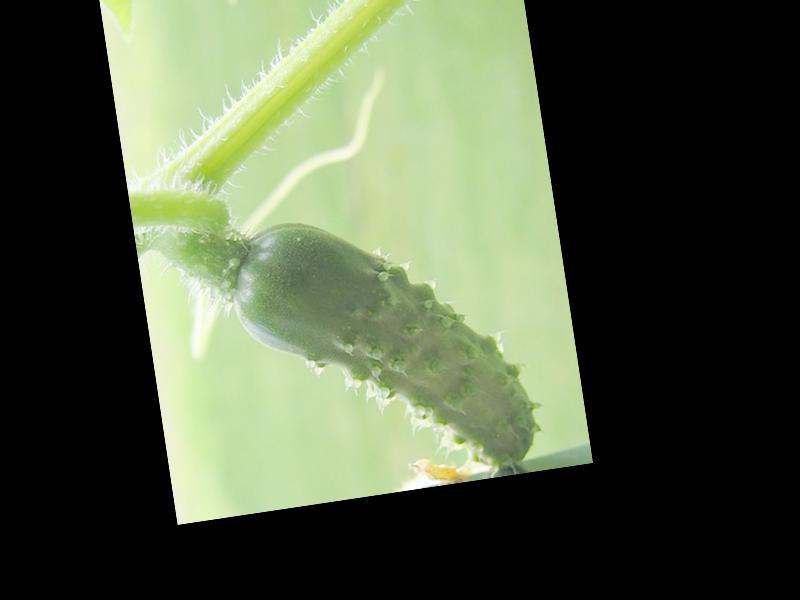Cucumber: (225, 186, 544, 502)
